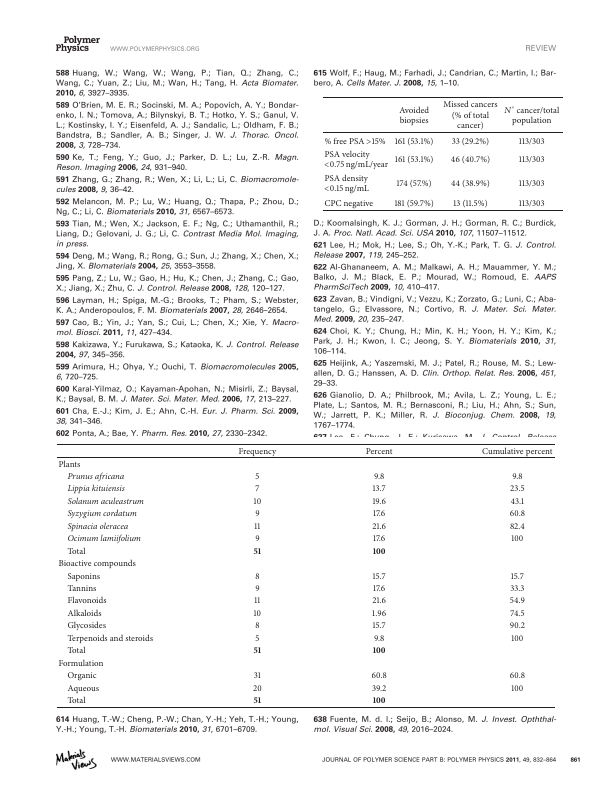borderless: (55, 442, 555, 707), (321, 95, 563, 210)
cell: (442, 100, 499, 131), (323, 149, 389, 172), (503, 101, 560, 126), (323, 173, 370, 196), (323, 132, 387, 148), (66, 633, 154, 644), (57, 558, 137, 569), (66, 496, 145, 507), (66, 533, 142, 544), (481, 446, 554, 457), (66, 509, 138, 519), (66, 521, 129, 532), (398, 105, 430, 126), (66, 471, 125, 482), (66, 484, 126, 494), (323, 198, 374, 209), (57, 658, 104, 669), (393, 198, 435, 209), (450, 154, 491, 165), (450, 178, 491, 189), (394, 154, 434, 165), (238, 446, 277, 457), (66, 596, 108, 606), (66, 621, 107, 631), (66, 608, 103, 619), (396, 178, 433, 189), (452, 198, 489, 209), (394, 136, 434, 146), (451, 136, 490, 146), (66, 683, 100, 694), (66, 670, 98, 681), (66, 571, 101, 581), (66, 583, 97, 594), (365, 446, 394, 457), (518, 154, 546, 165), (518, 178, 546, 189), (518, 198, 546, 209), (518, 136, 546, 146), (57, 459, 81, 469), (66, 546, 87, 557), (66, 695, 87, 706), (66, 646, 87, 656), (509, 521, 526, 532), (509, 608, 526, 619), (371, 670, 388, 681), (509, 670, 526, 681), (371, 496, 387, 507), (371, 521, 387, 532), (509, 583, 525, 594), (371, 608, 387, 619), (371, 683, 387, 694), (509, 484, 526, 494), (509, 509, 526, 519), (509, 596, 526, 606), (509, 621, 526, 631), (510, 496, 525, 507), (371, 596, 387, 606), (372, 533, 386, 544), (510, 533, 524, 544), (372, 583, 386, 594), (510, 633, 524, 644), (510, 683, 524, 694), (372, 484, 387, 494), (372, 571, 387, 581), (510, 571, 525, 581), (372, 621, 387, 631), (511, 471, 524, 482), (372, 509, 386, 519), (372, 695, 387, 704), (373, 471, 385, 482), (373, 633, 385, 644), (252, 683, 263, 694), (372, 546, 387, 554), (372, 646, 387, 654), (253, 496, 262, 507), (253, 608, 262, 619), (253, 670, 262, 681), (253, 521, 261, 532), (253, 695, 262, 704), (253, 596, 261, 606), (254, 533, 261, 544), (254, 583, 261, 594), (253, 546, 262, 554), (253, 646, 262, 654), (254, 509, 261, 519), (254, 571, 261, 581), (254, 621, 261, 631), (254, 471, 260, 482), (254, 633, 260, 644), (254, 484, 260, 494)
